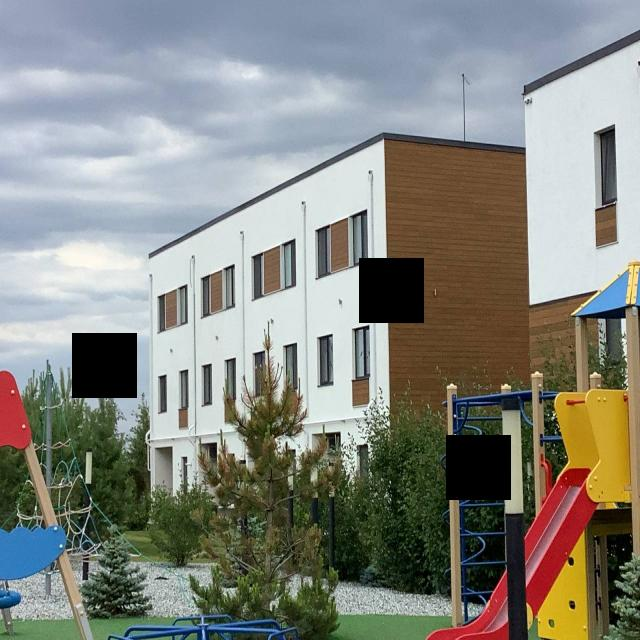Building: (149, 134, 529, 495)
